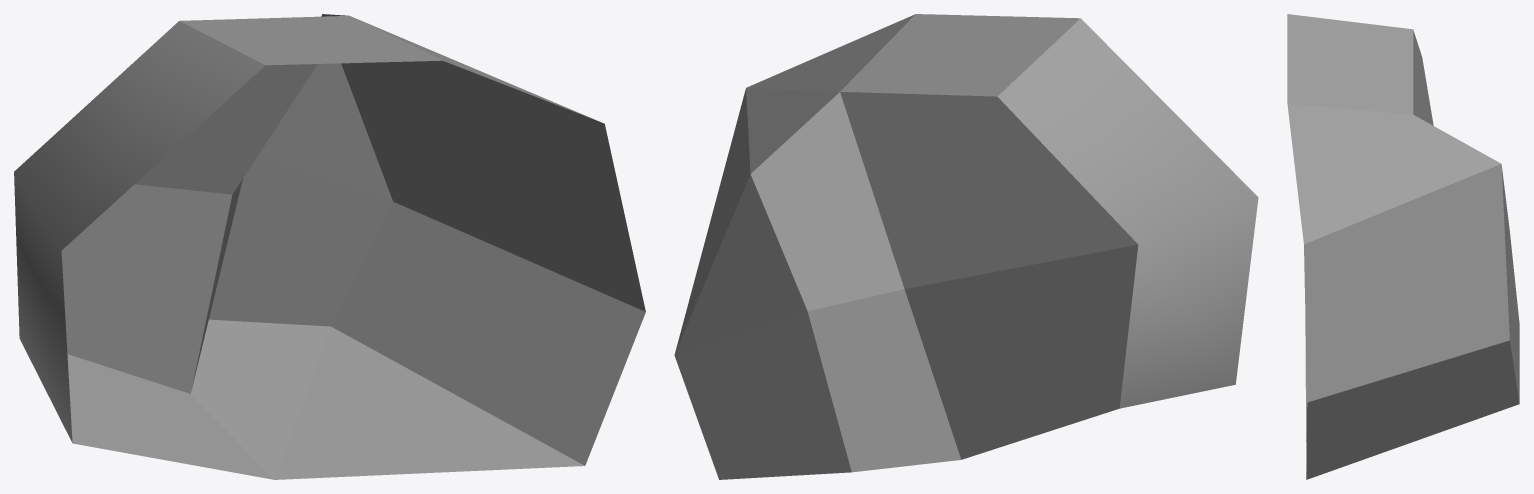
The model's file is SM_Rock2Rotated.FBX.
3 views of the same model, side by side, from view 1: azimuth 30°, elevation 25°; view 2: azimuth 150°, elevation 25°; view 3: azimuth 270°, elevation 25° (orthographic). The views are drawn at different scales.
Visible parts, largest first — view 1: SM_Rock2; view 2: SM_Rock2; view 3: SM_Rock2.
Boxes of the visible parts, <box> form: SM_Rock2: <box>14,14,645,479</box>; SM_Rock2: <box>674,14,1258,479</box>; SM_Rock2: <box>1287,14,1519,479</box>.
Size of the model in its own units: 29.1 by 13.86 by 23.08.
